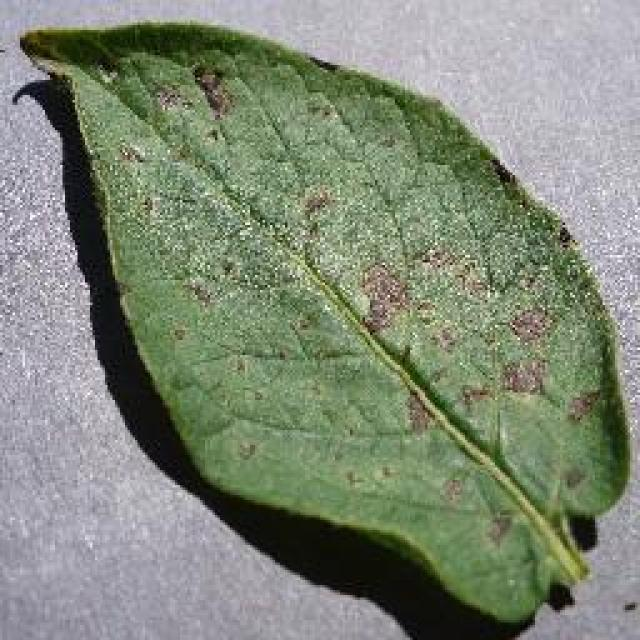Potato: (15, 15, 633, 633)
